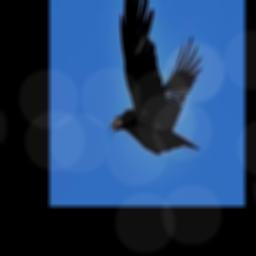Crow: (111, 0, 200, 153)
